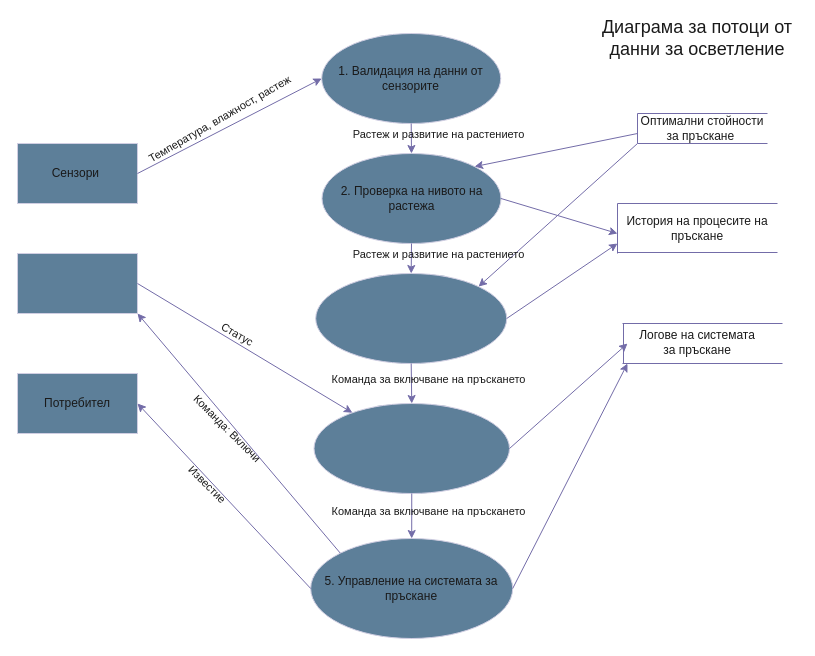
The diagram is 815 pixels wide and 656 high, and some of its shapes have lost their labels. The shapes that lost their labels are listed below. From the top down, each one's centre as x and y in pixels, then its label:
At point (77, 283): "Система за пръскане".
At point (411, 318): "3. Определяне на нужда от пръскане".
At point (411, 448): "4. Валидация на състоянието на пръскачната система".
